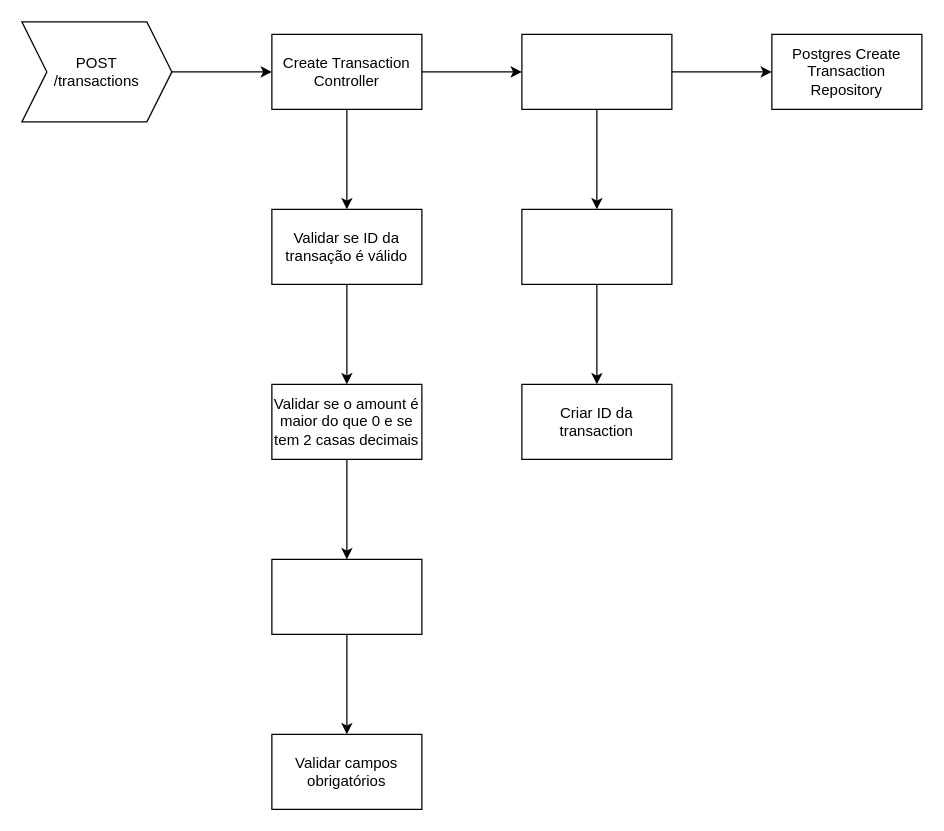
This 944x831 diagram has some shape labels left out. Here are the shapes that lost their labels. From the top down, the centre of each, then its label:
point 596,71: Create Transaction Use Case
point 596,246: Validar se o usuário recebido existe
point 346,596: Validar se o type é válido
